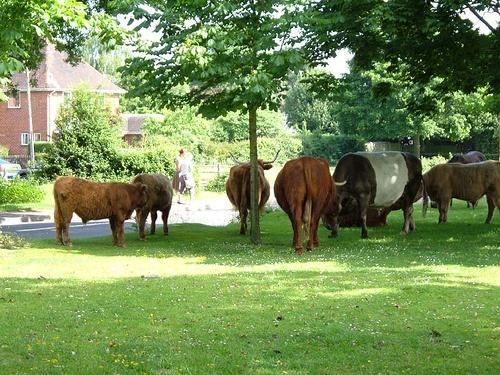cow: (327, 152, 425, 240), (276, 159, 350, 255), (55, 178, 149, 248), (421, 161, 500, 227), (227, 153, 282, 236), (135, 176, 174, 241)
